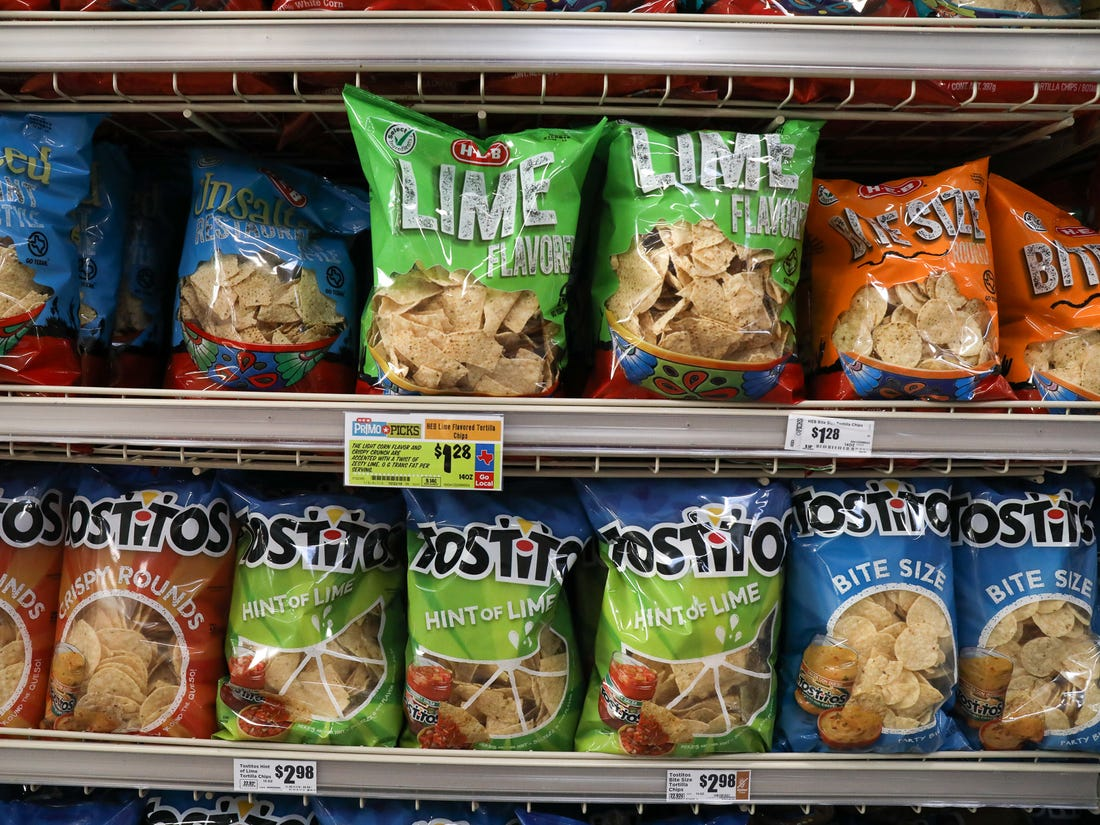chip: (348, 97, 568, 404), (600, 128, 830, 400), (587, 486, 789, 769), (409, 502, 588, 756), (52, 490, 231, 741), (226, 494, 398, 747), (790, 485, 955, 742), (178, 141, 345, 388), (835, 163, 994, 396), (967, 491, 1097, 749)
